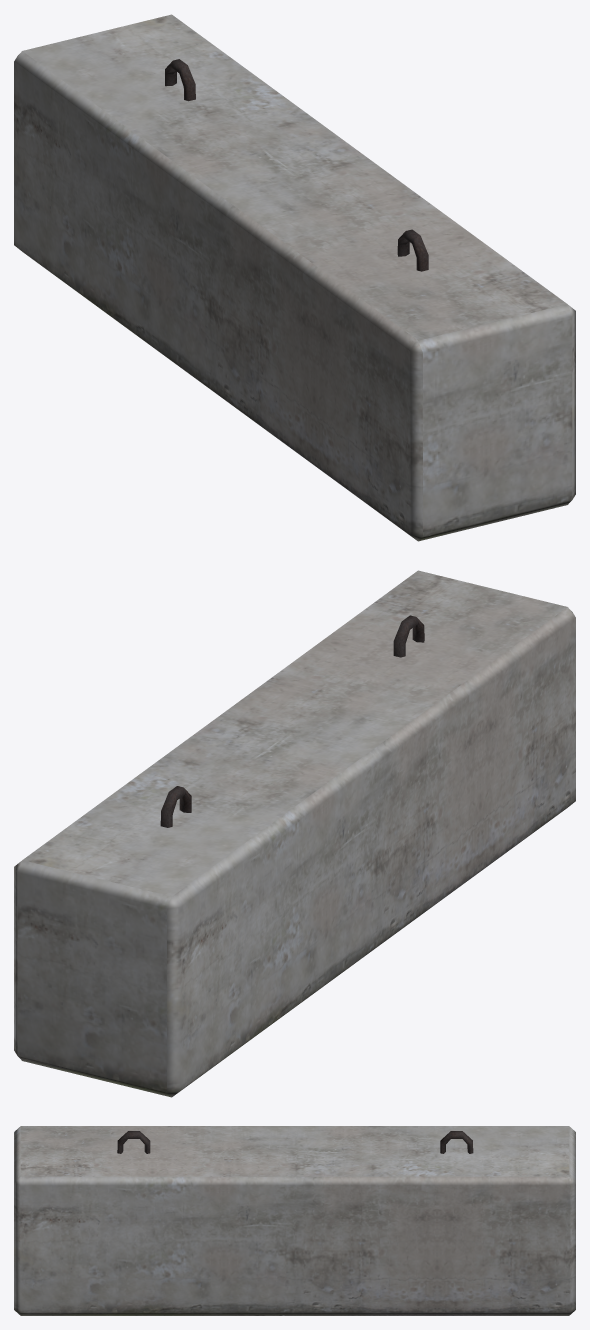
File: ConcreteBarrier_C_B.fbx
The picture shows the model from 3 angles, top to bottom: view 1: azimuth 30°, elevation 25°; view 2: azimuth 150°, elevation 25°; view 3: azimuth 270°, elevation 25°; orthographic projection. The views are drawn at different scales.
Visible parts, largest first — view 1: ConcreteBarrier_C_B; view 2: ConcreteBarrier_C_B; view 3: ConcreteBarrier_C_B.
Boxes of the visible parts, <box> form: ConcreteBarrier_C_B: <box>14,14,575,541</box>; ConcreteBarrier_C_B: <box>14,570,575,1097</box>; ConcreteBarrier_C_B: <box>14,1126,575,1315</box>.
Size of the model in its own units: 71 by 93.75 by 300.
